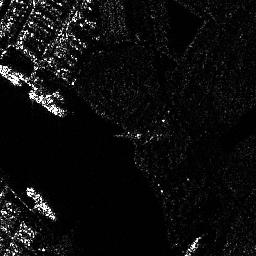ship: (27, 90, 67, 117), (25, 186, 56, 220), (1, 69, 24, 87), (184, 235, 200, 256)
